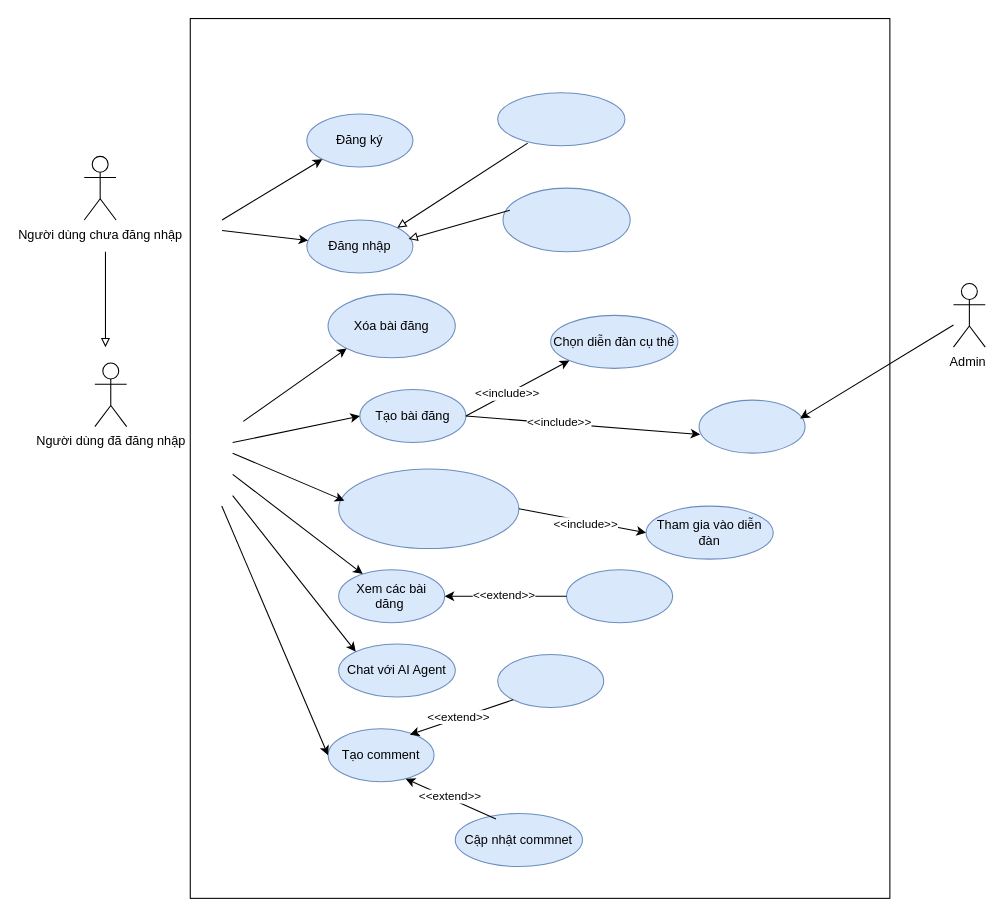
Image size: 1007x917. Some labels were removed from this diagram. Here are the shapes that lost their labels. From the top down, the centre of each, then its label:
At point 561,119: "Đăng nhập với Google".
At point 566,219: "Đăng nhập với email".
At point 751,426: "Phê duyệt".
At point 428,508: "Nhận thông báo các bài đăng từ diễn đàn".
At point 619,596: "Xem comment".
At point 550,680: "Xóa comment".
